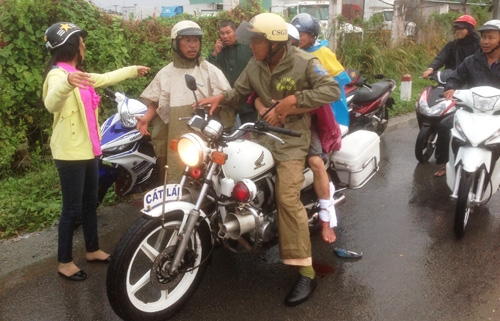police: (199, 9, 341, 311)
